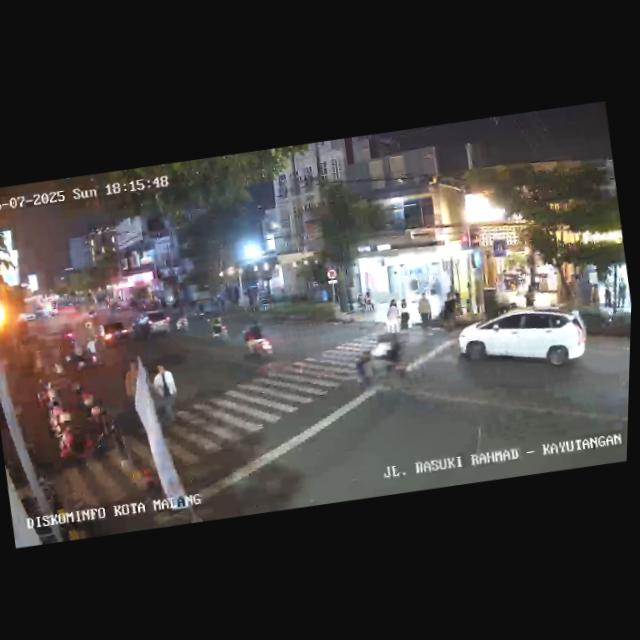car: (454, 298, 590, 386), (134, 307, 174, 341), (94, 319, 132, 349)
motorcycle: (345, 325, 416, 395), (238, 321, 277, 370), (206, 314, 232, 350), (80, 334, 103, 370)
person: (119, 358, 149, 430), (148, 360, 179, 424), (415, 292, 435, 331), (385, 298, 402, 334), (397, 301, 414, 333), (614, 277, 630, 308), (600, 277, 615, 309), (588, 278, 602, 306), (522, 280, 536, 307)
